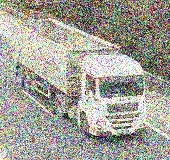truck: (10, 19, 148, 139)
